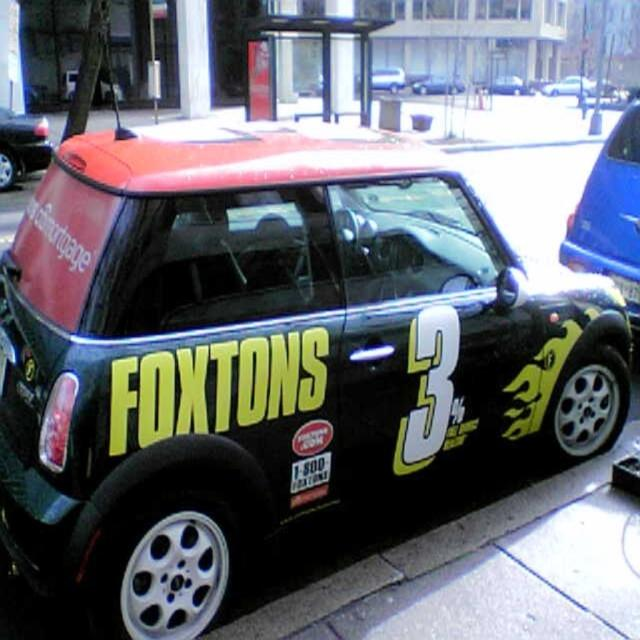car: (411, 73, 462, 95)
